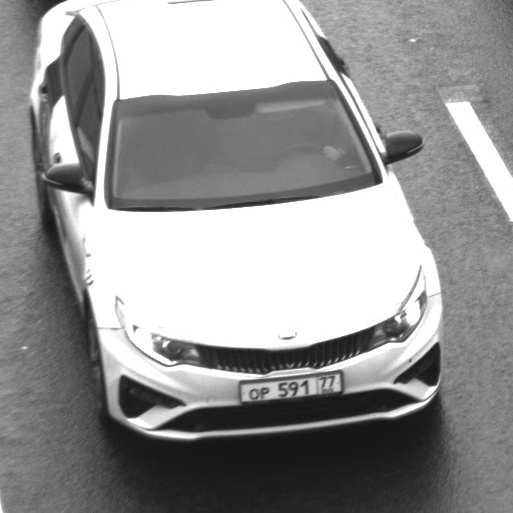plate: (228, 360, 354, 411)
